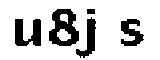8: (47, 5, 81, 47)
j: (77, 6, 101, 60)
s: (115, 18, 144, 50)
u: (11, 16, 42, 50)
